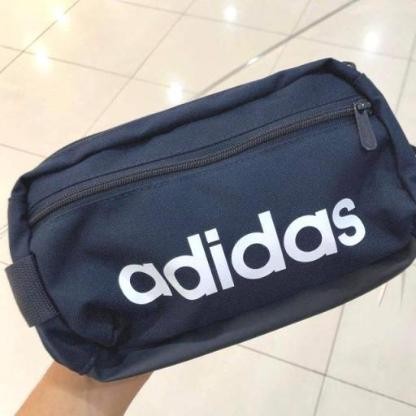bag: (2, 52, 416, 389)
